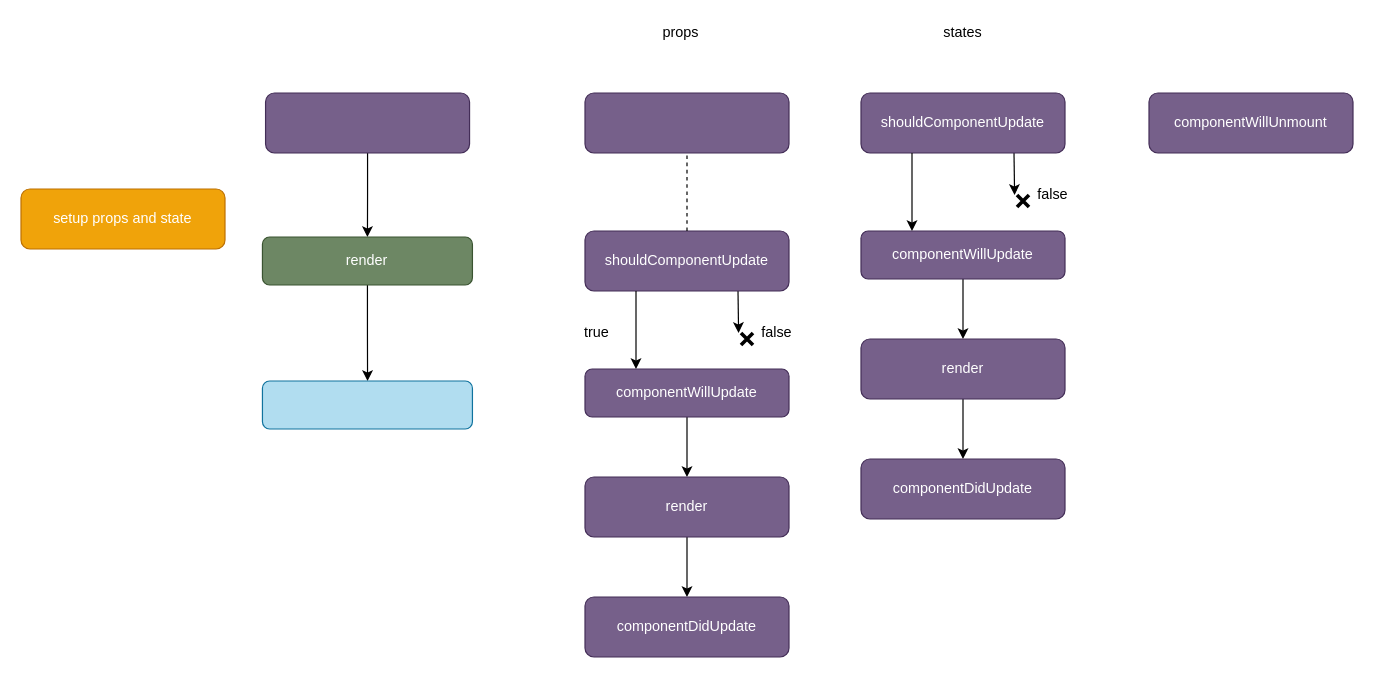
This 1374x678 diagram has some shape labels left out. Each missing label, with the centre of its shape:
"componentDidMount" belongs at point 366,404.
"componentWillMount" belongs at point 367,122.
"componentWillReceiveProps" belongs at point 686,122.
